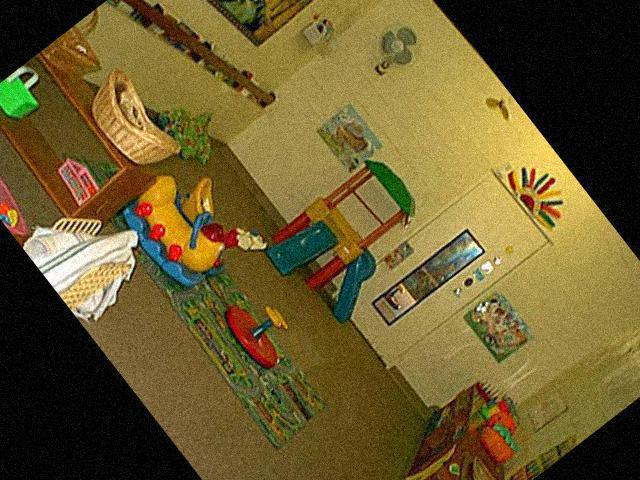Otro Obstaculo: (251, 149, 446, 339), (119, 159, 257, 300), (217, 284, 305, 376), (155, 93, 232, 170)
Puerta: (336, 176, 545, 366)
